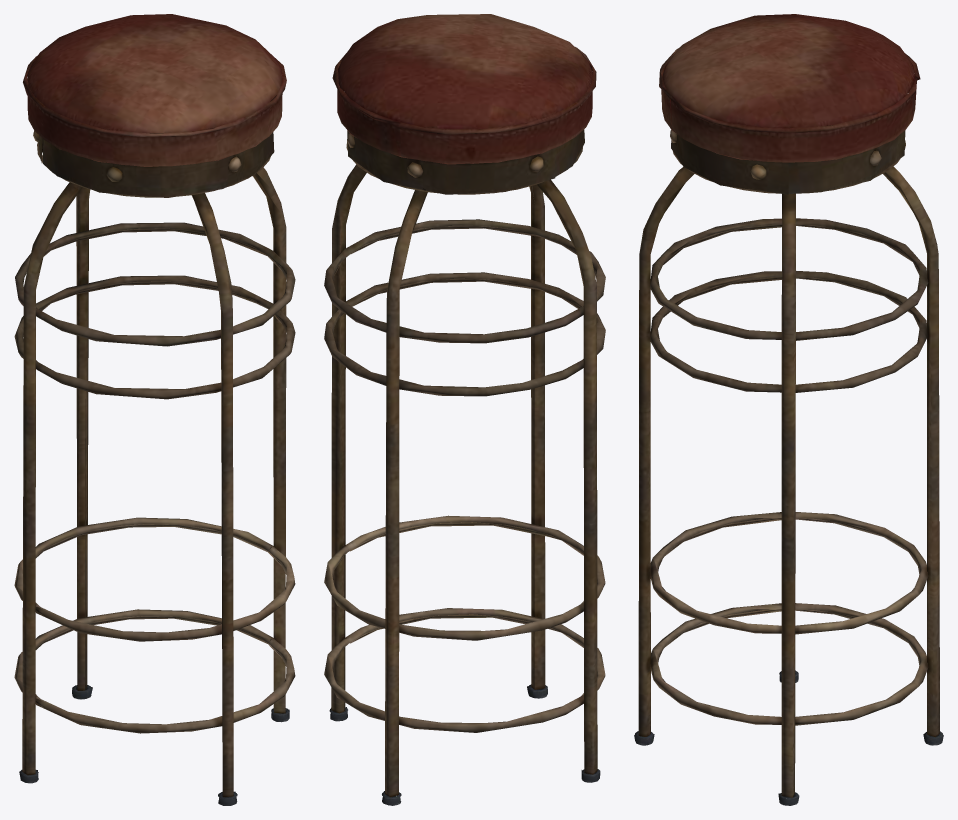
Rendered from ph_metal_stool_01.glb.
3 views of the same model, side by side, from view 1: azimuth 30°, elevation 25°; view 2: azimuth 150°, elevation 25°; view 3: azimuth 270°, elevation 25° (orthographic).
Parts seen in each view (by area): view 1: metal_stool_01; view 2: metal_stool_01; view 3: metal_stool_01.
Part boxes in pixels (<box>): metal_stool_01: <box>14,14,295,805</box>; metal_stool_01: <box>324,14,605,805</box>; metal_stool_01: <box>634,14,943,805</box>.
Size of the model in its own units: 0.3527 by 0.8826 by 0.3562.
1 material, 1 textured.
